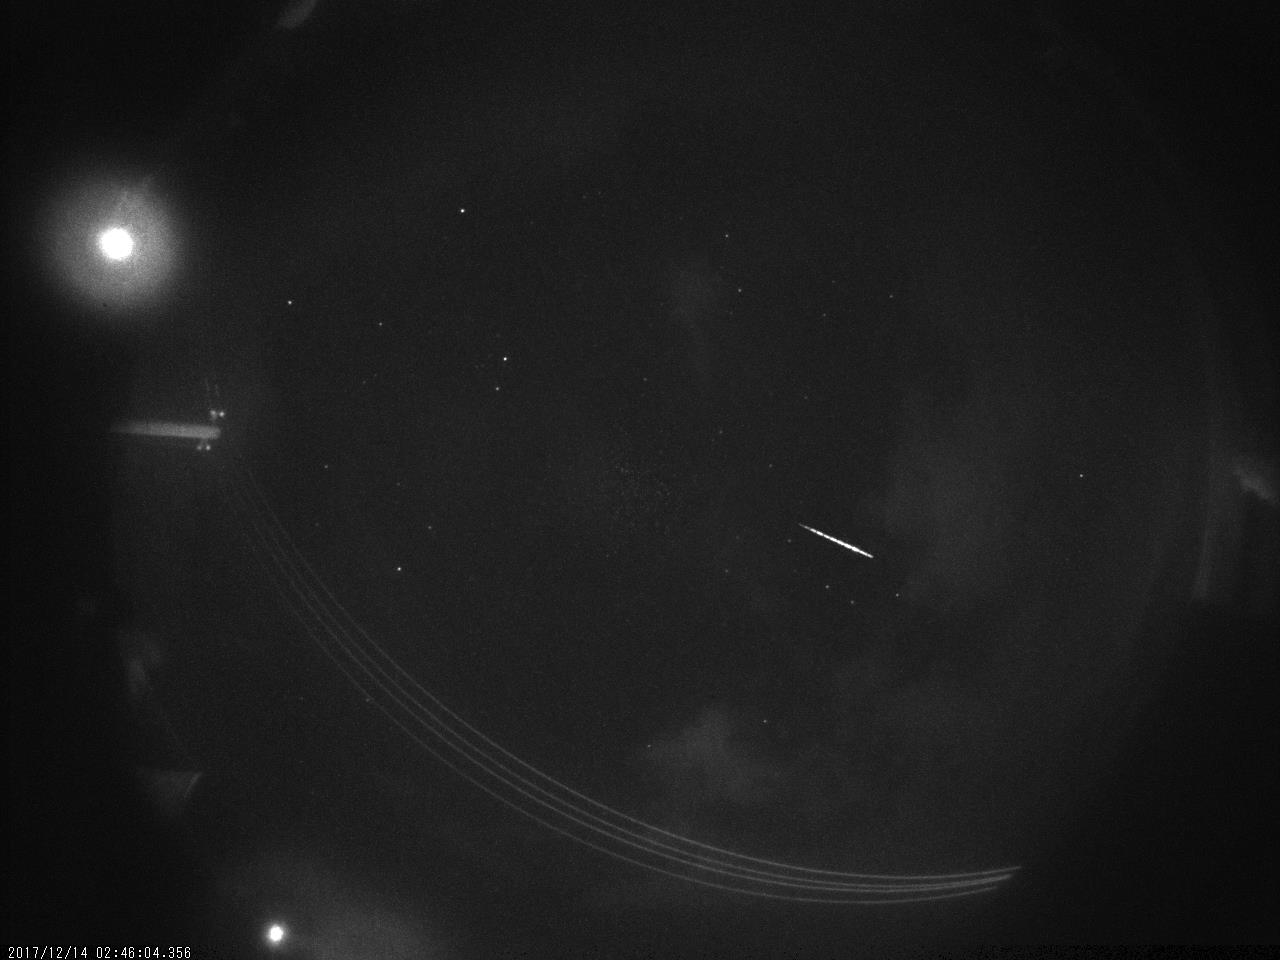meteor: (752, 484, 912, 597)
